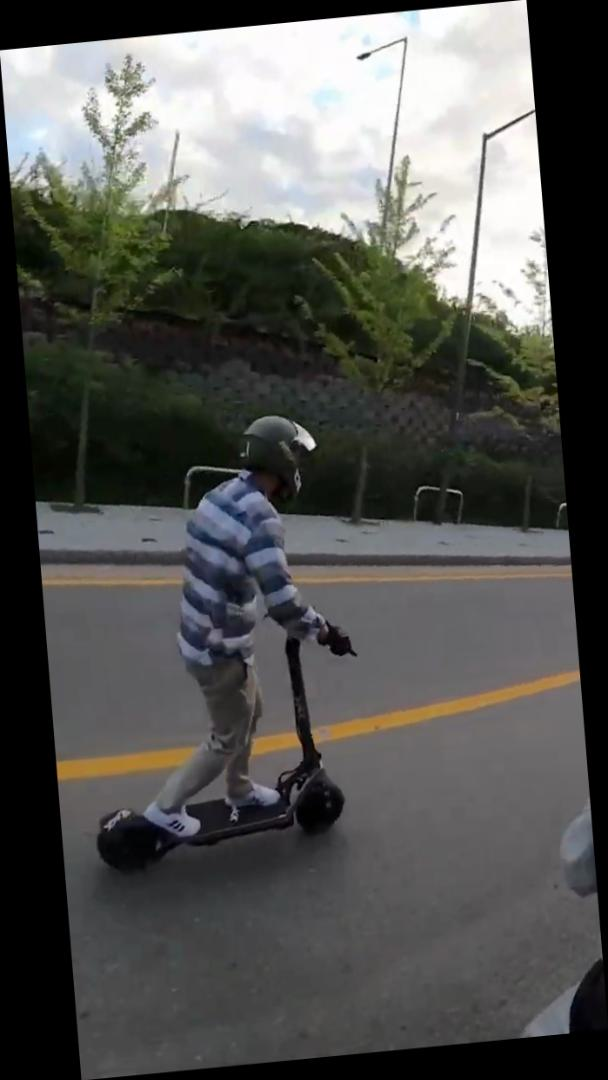helmet: (60, 403, 378, 881)
